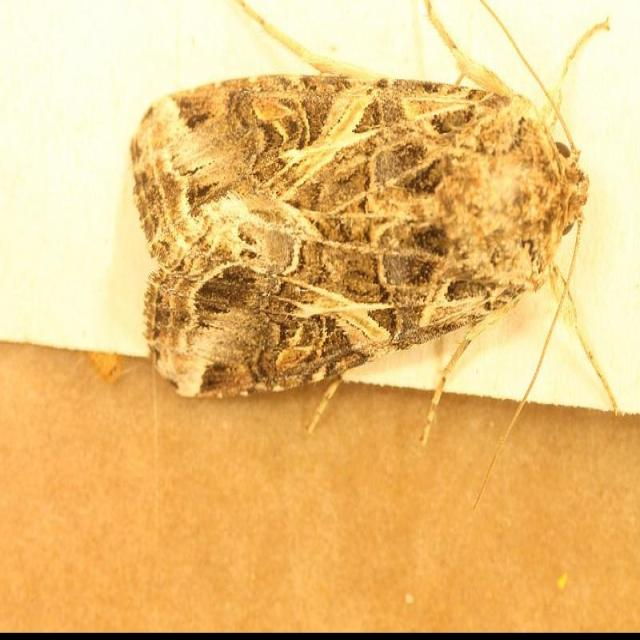army worm: (130, 59, 593, 406)
